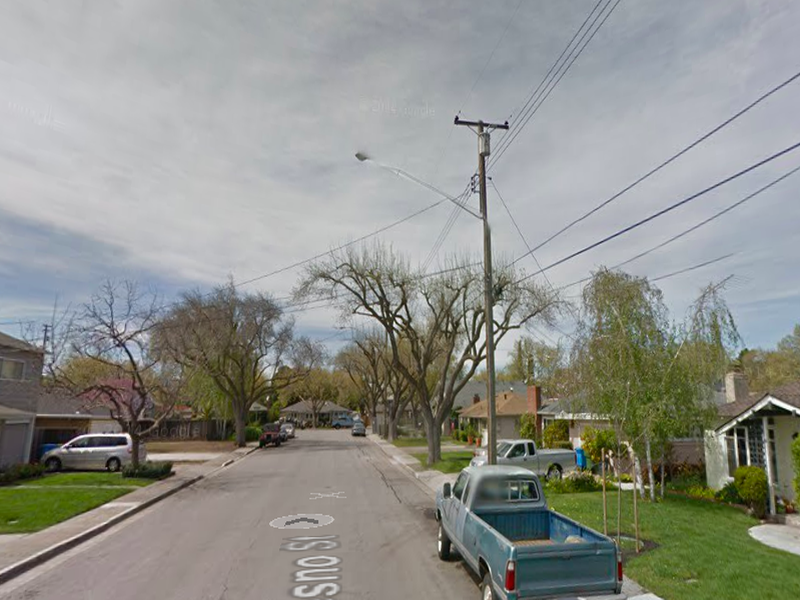utility_pole: (447, 104, 516, 198)
